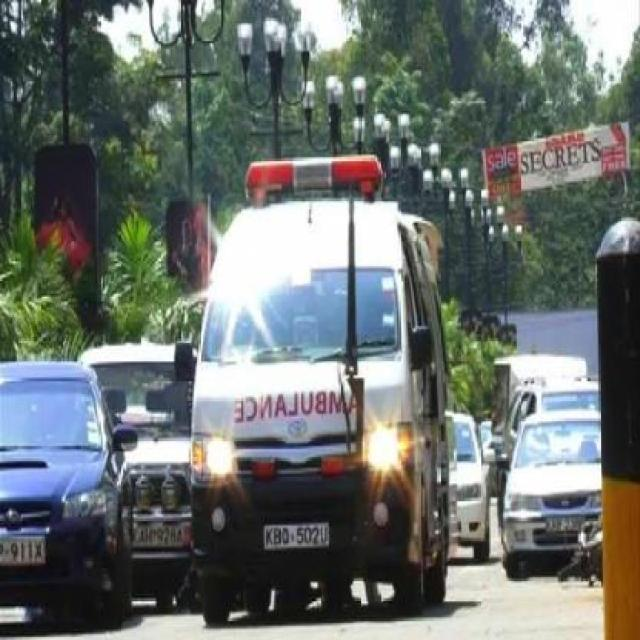Ambulance: (202, 140, 453, 601)
